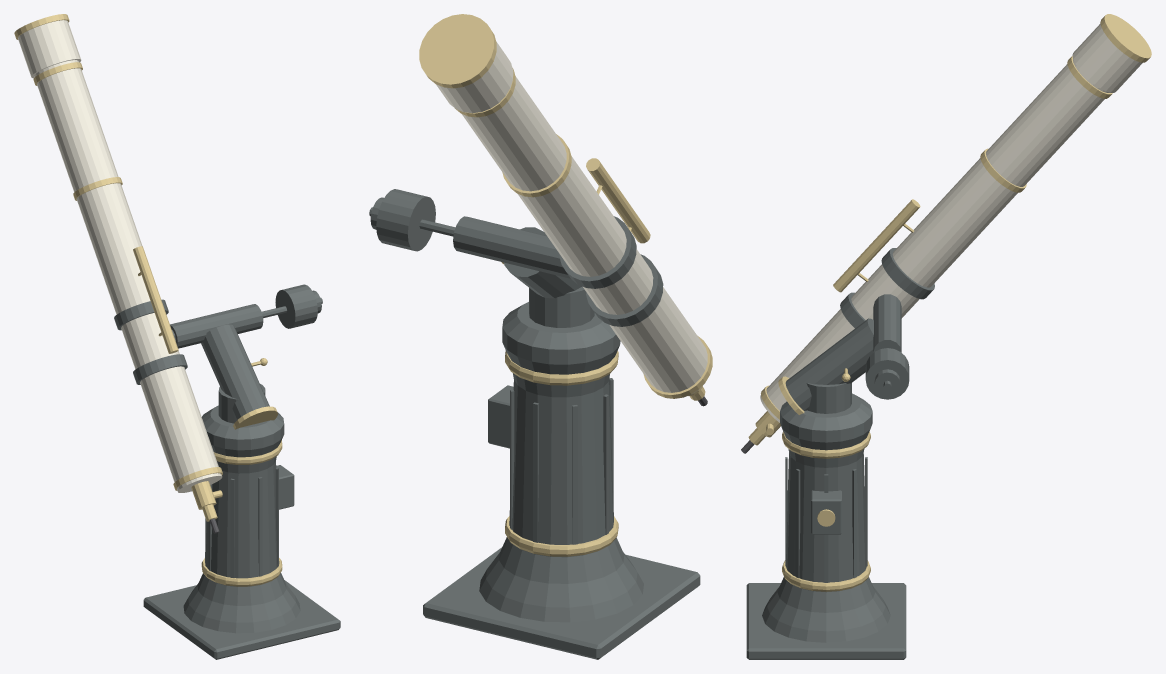
Rendered from telescope.glb.
The picture shows the model from 3 angles, left to right: view 1: azimuth 30°, elevation 25°; view 2: azimuth 150°, elevation 25°; view 3: azimuth 270°, elevation 25°; orthographic projection. The views are drawn at different scales.
Visible parts, largest first — view 1: telescope_iron, telescope_cream, telescope_brass; view 2: telescope_iron, telescope_cream, telescope_brass; view 3: telescope_iron, telescope_cream, telescope_brass.
Part boxes in pixels (x1=…): telescope_iron: x1=114, y1=284, x2=340, y2=659; telescope_cream: x1=18, y1=20, x2=222, y2=492; telescope_brass: x1=14, y1=14, x2=282, y2=586; telescope_iron: x1=369, y1=189, x2=700, y2=659; telescope_cream: x1=436, y1=41, x2=707, y2=397; telescope_brass: x1=419, y1=14, x2=712, y2=556; telescope_iron: x1=746, y1=248, x2=934, y2=659; telescope_cream: x1=760, y1=23, x2=1142, y2=422; telescope_brass: x1=748, y1=14, x2=1151, y2=591.
Size of the model in its own units: 1.91 by 4.93 by 3.19.
